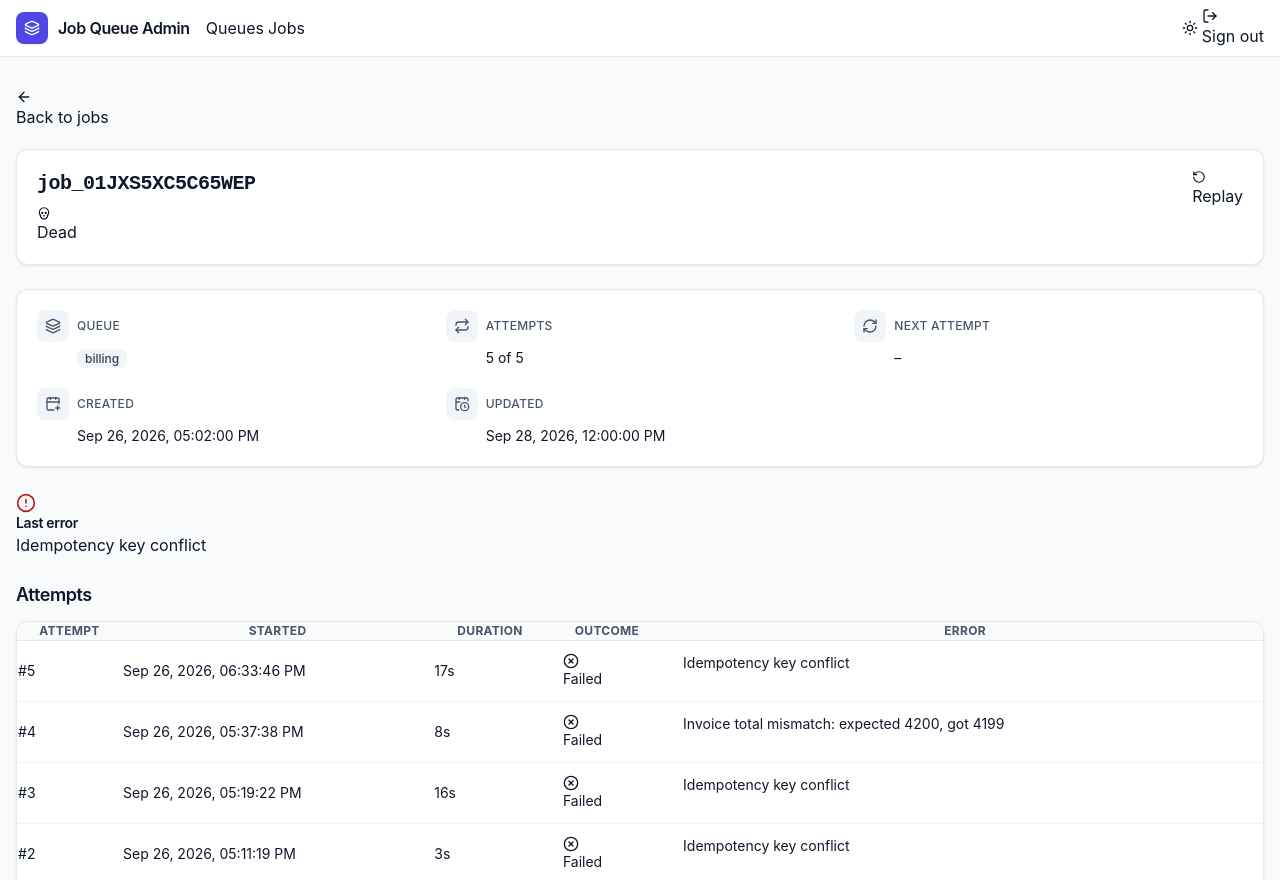
job detail › replays a dead job and shows the new status
What coordinates should you click on to do the following:
click the button "Replay"
I would click on:
 (1218, 189)
Its box is [1192, 170, 1243, 208].
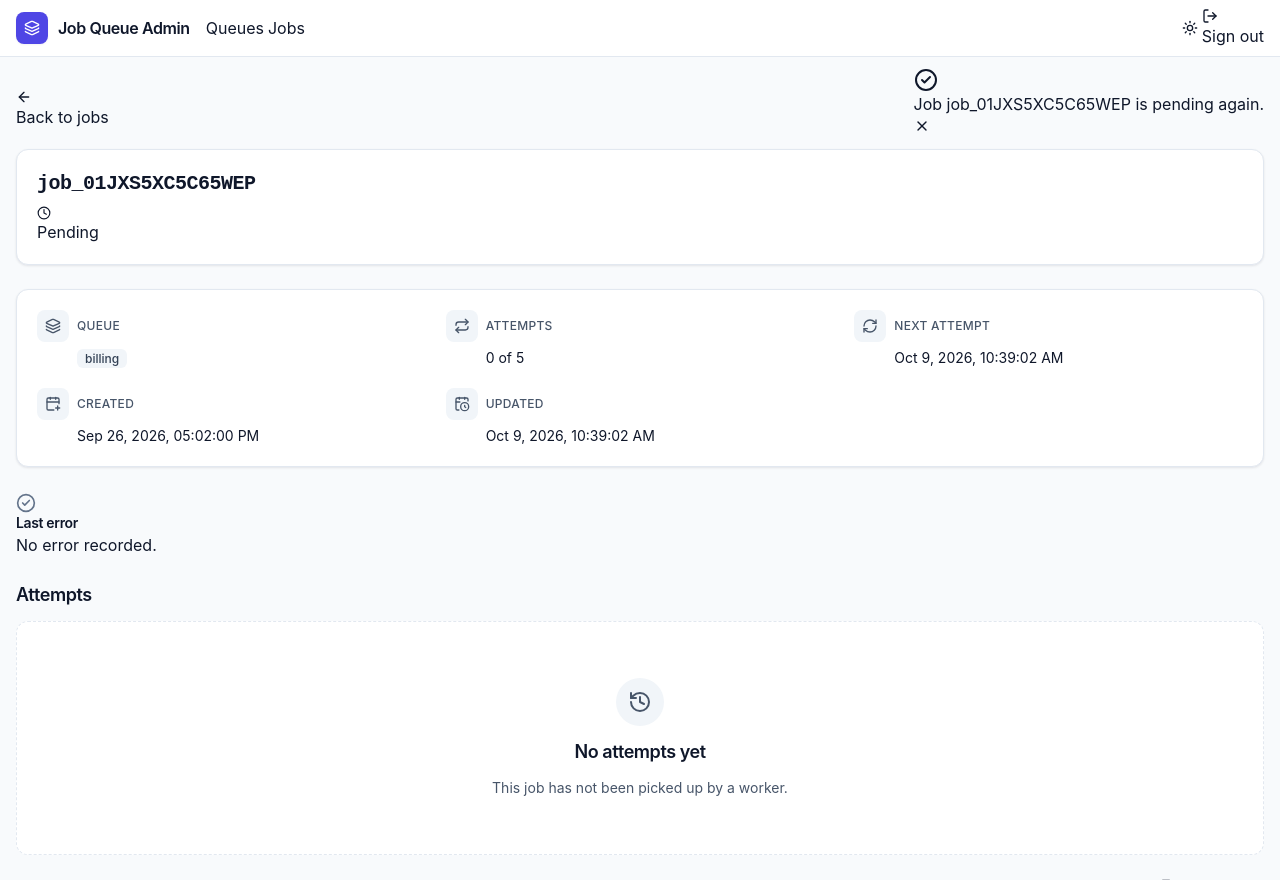
Result: the text "Pending" is shown at [37, 206, 99, 242]
Result: the button "Replay " is gone
Result: the heading "No attempts yet" is shown at [574, 738, 706, 766]
